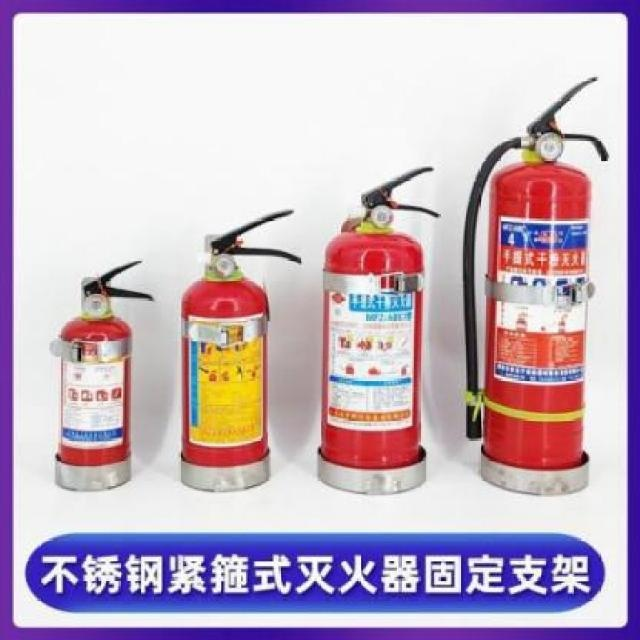fire extinguisher: (463, 75, 609, 471), (321, 166, 441, 471), (181, 208, 302, 468), (49, 259, 157, 466)
